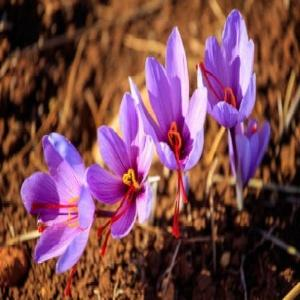Saffron: (24, 134, 107, 268), (87, 97, 171, 228), (144, 40, 216, 185), (196, 14, 257, 119), (222, 110, 284, 200)
